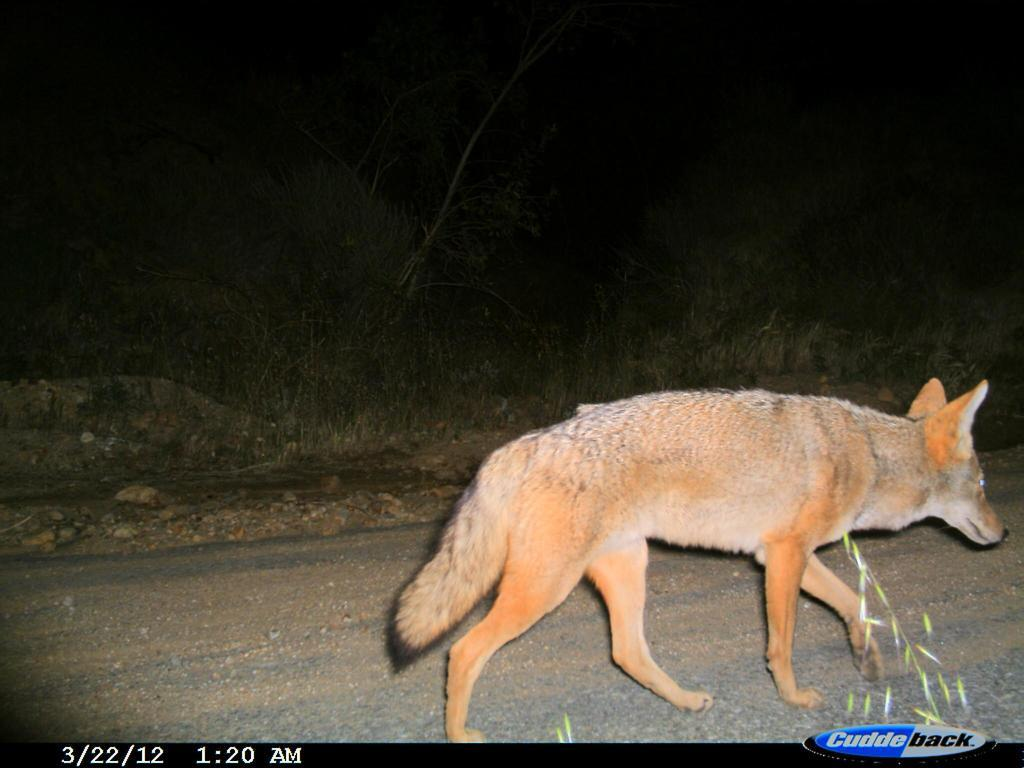coyote: (381, 369, 1016, 742)
